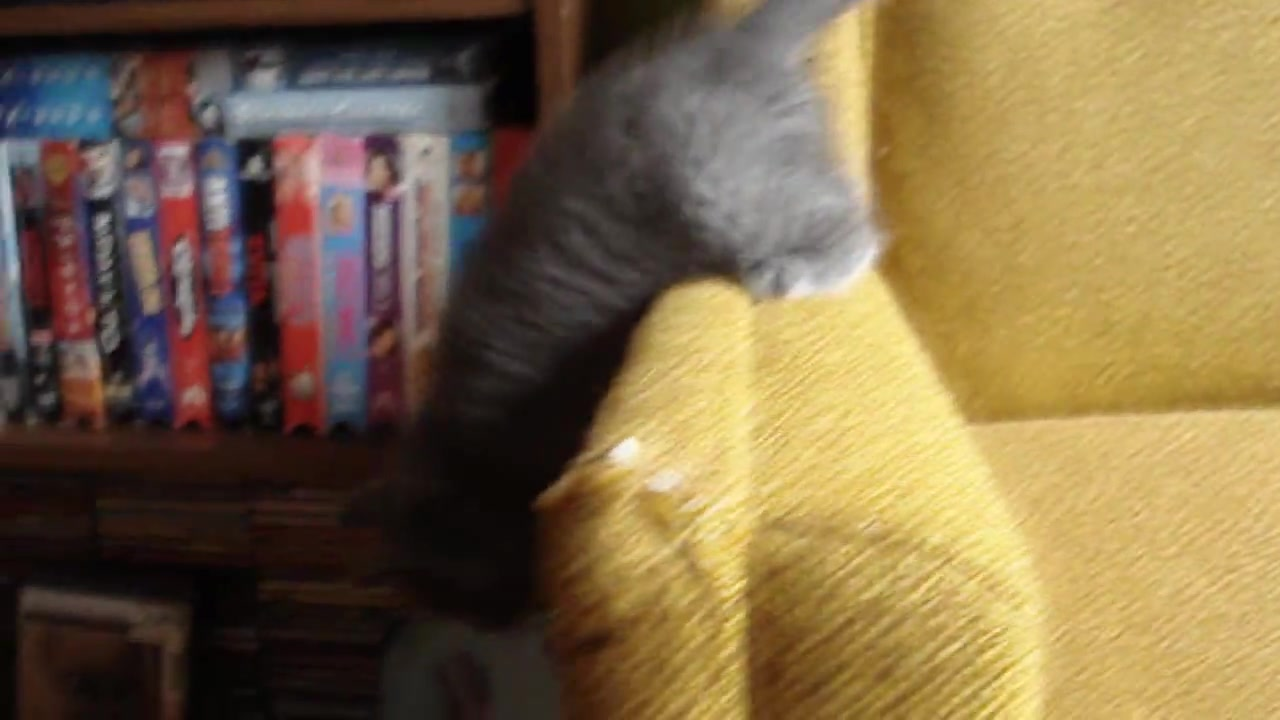cat: (339, 2, 878, 632)
